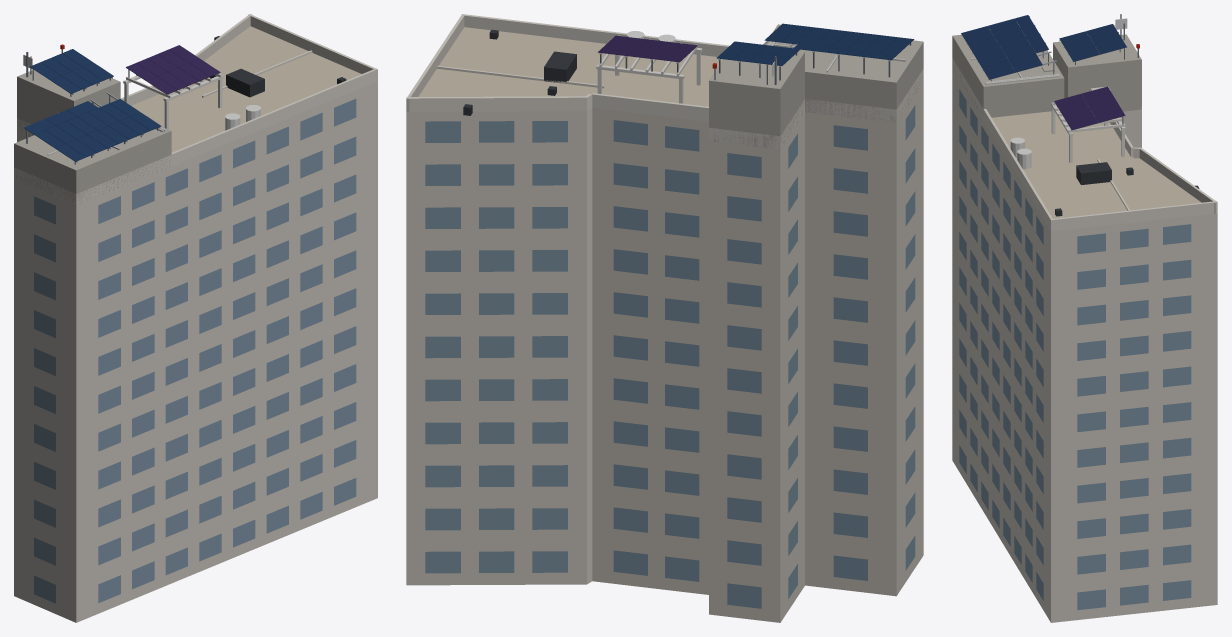
File: dehlsen-asset-3d-model.glb
The picture shows the model from 3 angles, left to right: view 1: azimuth 30°, elevation 25°; view 2: azimuth 150°, elevation 25°; view 3: azimuth 270°, elevation 25°; orthographic projection. The views are drawn at different scales.
Parts seen in each view (by area): view 1: Building and roof, Solar - two boxes (27 x 620 Wp), Solar - pergola option (10 x 620 Wp); view 2: Building and roof, Solar - two boxes (27 x 620 Wp), Solar - pergola option (10 x 620 Wp); view 3: Building and roof, Solar - two boxes (27 x 620 Wp), Solar - pergola option (10 x 620 Wp).
Boxes of the visible parts, box(x1,y1,x2,y2) form: Building and roof: box(14, 14, 377, 622); Solar - two boxes (27 x 620 Wp): box(24, 49, 161, 164); Solar - pergola option (10 x 620 Wp): box(126, 45, 220, 94); Building and roof: box(406, 14, 923, 622); Solar - two boxes (27 x 620 Wp): box(717, 23, 914, 80); Solar - pergola option (10 x 620 Wp): box(597, 35, 697, 72); Building and roof: box(952, 14, 1217, 622); Solar - two boxes (27 x 620 Wp): box(961, 15, 1127, 81); Solar - pergola option (10 x 620 Wp): box(1054, 86, 1125, 130).
Size of the model in its own units: 32.98 by 41.8 by 21.59.
